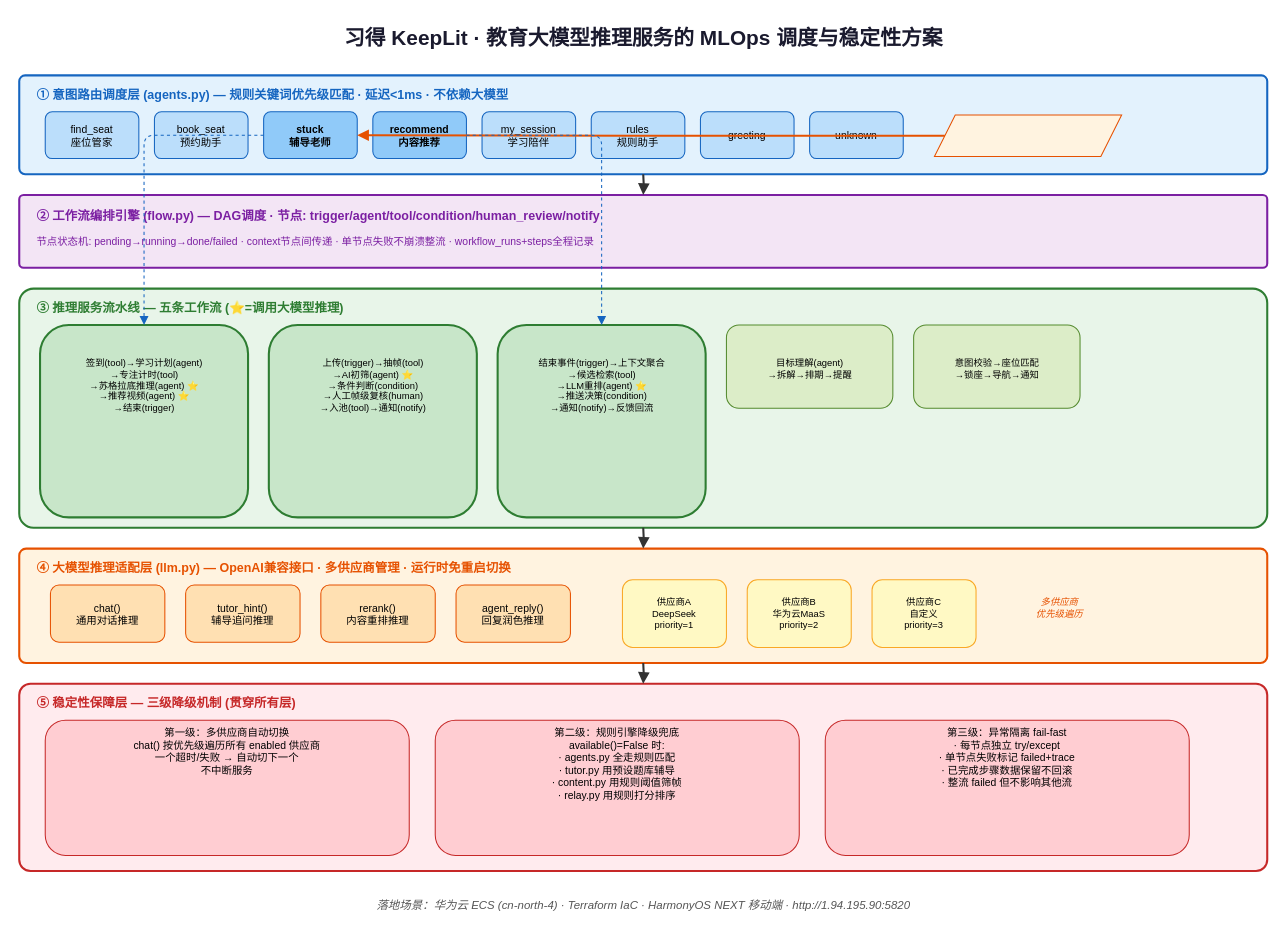
Image size: 1285x940. Some labels were removed from this diagram. Here are the shapes that lost their labels. From the top down, the box of each, then its label:
(933, 114, 1122, 157): 学生: "我高数极限不会"
(725, 324, 893, 408): 学习计划流 (plan)
(913, 324, 1080, 408): 预约履约流 (booking)
(38, 323, 249, 518): 学习辅导流 (study)
(267, 323, 477, 518): 交棒审核流 (content)
(496, 323, 706, 518): 接棒推送流 (relay)
